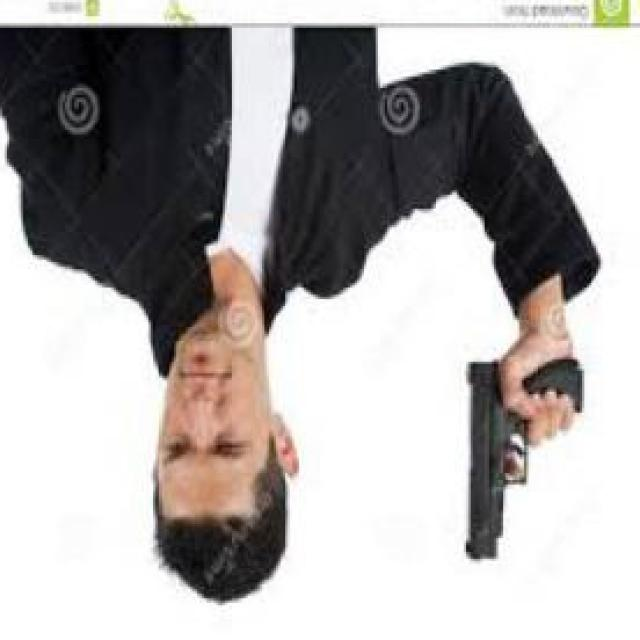pistol: (460, 350, 594, 580)
